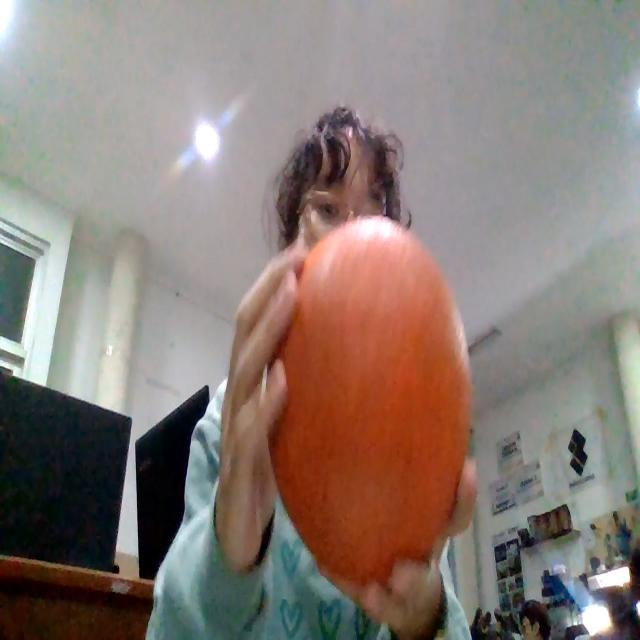ball: (268, 212, 472, 600)
